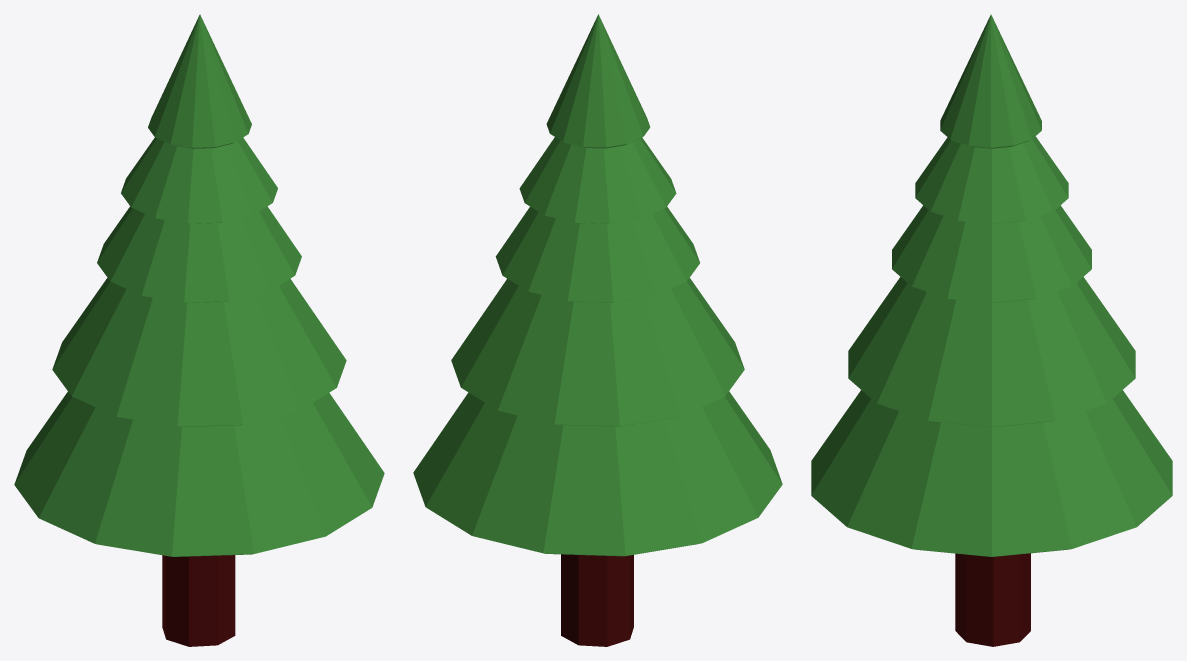
Rendered from Elka_1.fbx.
3 renders of one model, left to right at view 1: azimuth 30°, elevation 25°; view 2: azimuth 150°, elevation 25°; view 3: azimuth 270°, elevation 25°, orthographic.
Visible parts, largest first — view 1: Elka_1; view 2: Elka_1; view 3: Elka_1.
Part boxes in pixels (x1,y1,x2,y2): Elka_1: [14, 14, 384, 646]; Elka_1: [413, 14, 782, 646]; Elka_1: [811, 14, 1172, 646].
Size of the model in its own units: 192 by 353 by 187.
